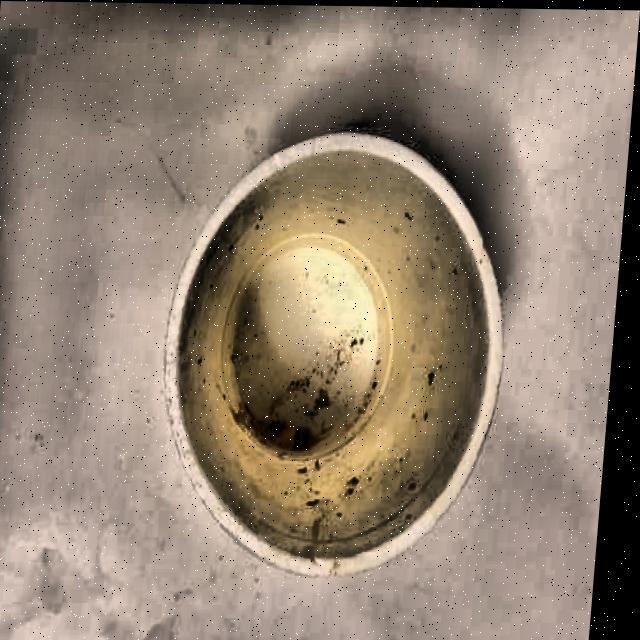plastic: (119, 126, 549, 595)
trash: (488, 606, 494, 615)
